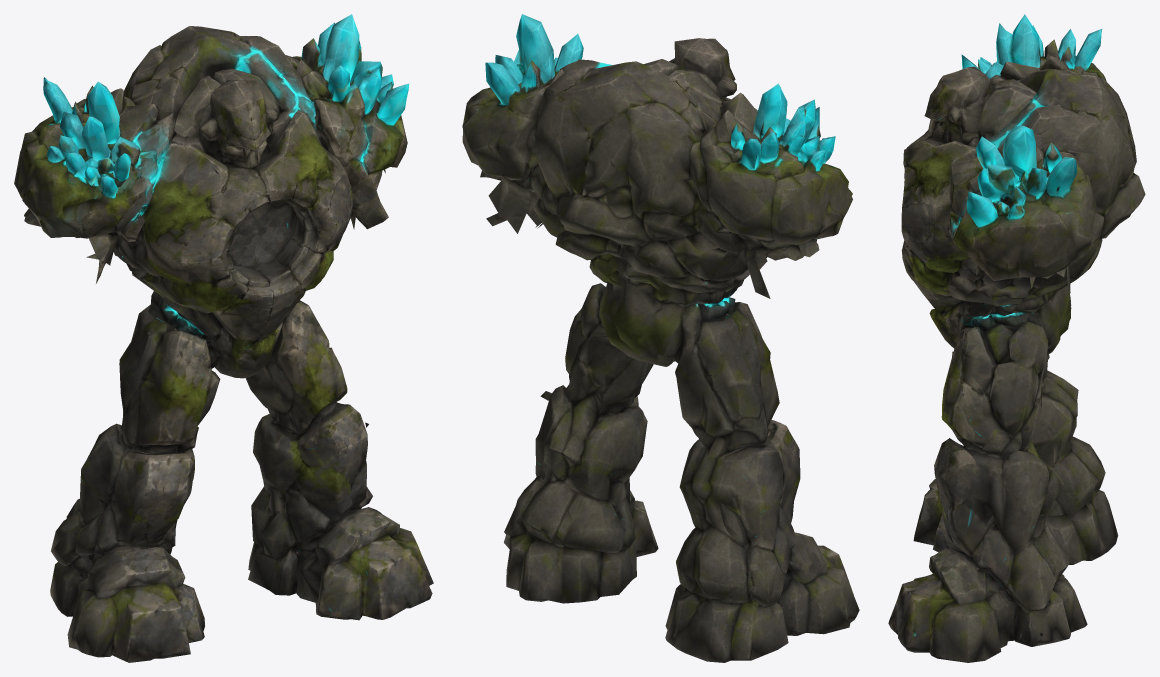
File: warden_body.glb
The picture shows the model from 3 angles, left to right: view 1: azimuth 30°, elevation 25°; view 2: azimuth 150°, elevation 25°; view 3: azimuth 270°, elevation 25°; orthographic projection. The views are drawn at different scales.
Visible parts, largest first — view 1: warden_body; view 2: warden_body; view 3: warden_body.
Part boxes in pixels (x1,y1,x2,y2): warden_body: (14, 14, 433, 662); warden_body: (462, 14, 859, 662); warden_body: (888, 14, 1145, 662).
Bounding box in the file's own units: 11.79 × 17 × 7.66.
1 material, 1 textured.
